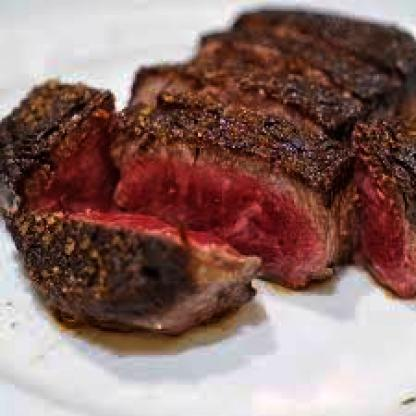Carne: (117, 80, 354, 285), (19, 206, 253, 339), (157, 42, 359, 148), (366, 109, 414, 301)
